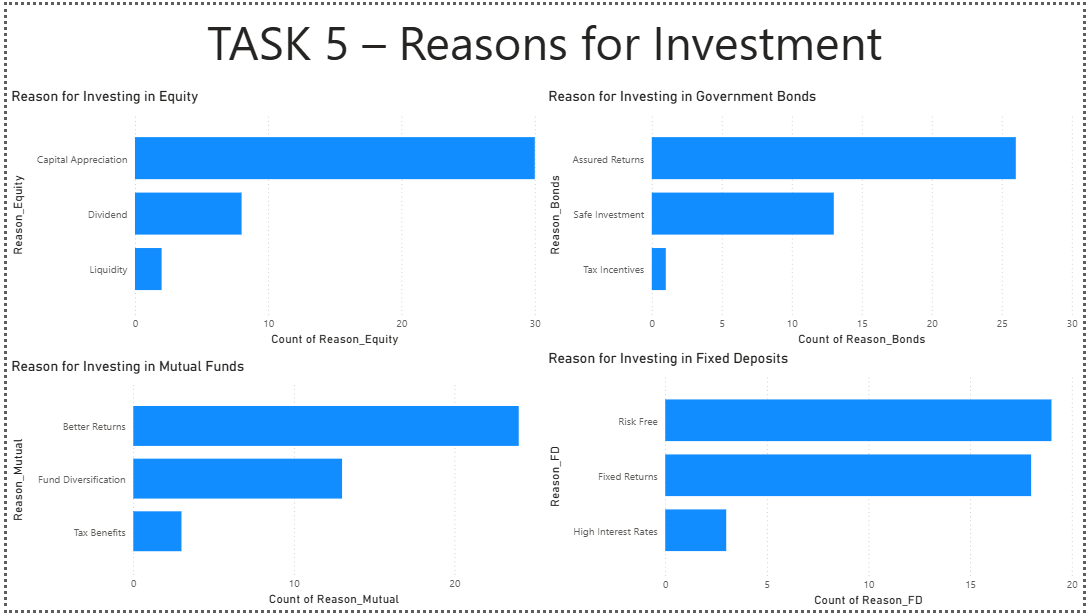

The dashboard page shown, as its layout file describes it:
{"tool":"powerbi","page":{"name":"Investment Reasons","canvas":[1280,720],"ordinal":4},"visuals":[{"type":"textbox","box":[0,0,1280,98],"z":0},{"type":"clusteredBarChart","title":"Reason for Investing in Equity","fields":{"Category":["Data_set 2 (1).Reason_Equity"],"Y":["CountNonNull(Data_set 2 (1).Reason_Equity)"]},"box":[0,98,640,312],"z":1000},{"type":"clusteredBarChart","title":"Reason for Investing in Mutual Funds","fields":{"Category":["Data_set 2 (1).Reason_Mutual"],"Y":["CountNonNull(Data_set 2 (1).Reason_Mutual)"]},"box":[0,420,640,300],"z":2000},{"type":"clusteredBarChart","title":"Reason for Investing in Government Bonds","fields":{"Category":["Data_set 2 (1).Reason_Bonds"],"Y":["CountNonNull(Data_set 2 (1).Reason_Bonds)"]},"box":[640,98,640,312],"z":3000},{"type":"clusteredBarChart","title":"Reason for Investing in Fixed Deposits","fields":{"Category":["Data_set 2 (1).Reason_FD"],"Y":["CountNonNull(Data_set 2 (1).Reason_FD)"]},"box":[640,410,640,310],"z":4000}]}

Visuals, with their boxes in screenshot pixels (x1, y1, x2, y2), scaled from the page's 1280x720 canvas onto the 1086x615 screenshot:
textbox: {"left": 0, "top": 0, "right": 1085, "bottom": 84}
"Reason for Investing in Equity" clusteredBarChart: {"left": 0, "top": 84, "right": 543, "bottom": 350}
"Reason for Investing in Mutual Funds" clusteredBarChart: {"left": 0, "top": 359, "right": 543, "bottom": 614}
"Reason for Investing in Government Bonds" clusteredBarChart: {"left": 543, "top": 84, "right": 1085, "bottom": 350}
"Reason for Investing in Fixed Deposits" clusteredBarChart: {"left": 543, "top": 350, "right": 1085, "bottom": 614}
